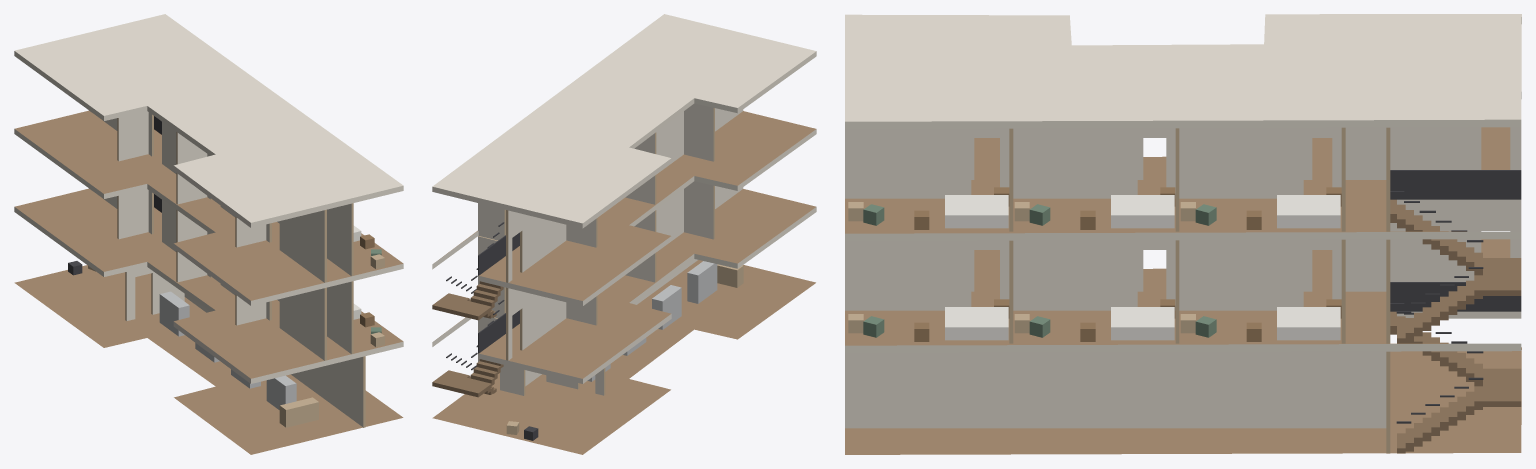
Rendered from interior.glb.
3 renders of one model, left to right at view 1: azimuth 30°, elevation 25°; view 2: azimuth 150°, elevation 25°; view 3: azimuth 270°, elevation 25°, orthographic. The views are drawn at different scales.
Parts seen in each view (by area): view 1: slabs, partitions, coarse-s0, coarse-s2, coarse-s1; view 2: slabs, partitions, stair, coarse-s0; view 3: slabs, partitions, stair, coarse-s2, coarse-s1.
Part boxes in pixels (x1,y1,x2,y2): slabs: [14, 14, 403, 454]; partitions: [89, 111, 365, 427]; coarse-s0: [68, 261, 318, 427]; coarse-s2: [353, 225, 384, 268]; coarse-s1: [353, 303, 384, 346]; slabs: [432, 14, 816, 454]; partitions: [478, 103, 743, 395]; stair: [432, 222, 519, 397]; coarse-s0: [506, 261, 743, 440]; slabs: [845, 14, 1521, 454]; partitions: [845, 127, 1521, 453]; stair: [1390, 170, 1521, 453]; coarse-s2: [848, 187, 1341, 229]; coarse-s1: [848, 299, 1341, 341].
Size of the model in its own units: 7.99 by 11.54 by 21.2.
